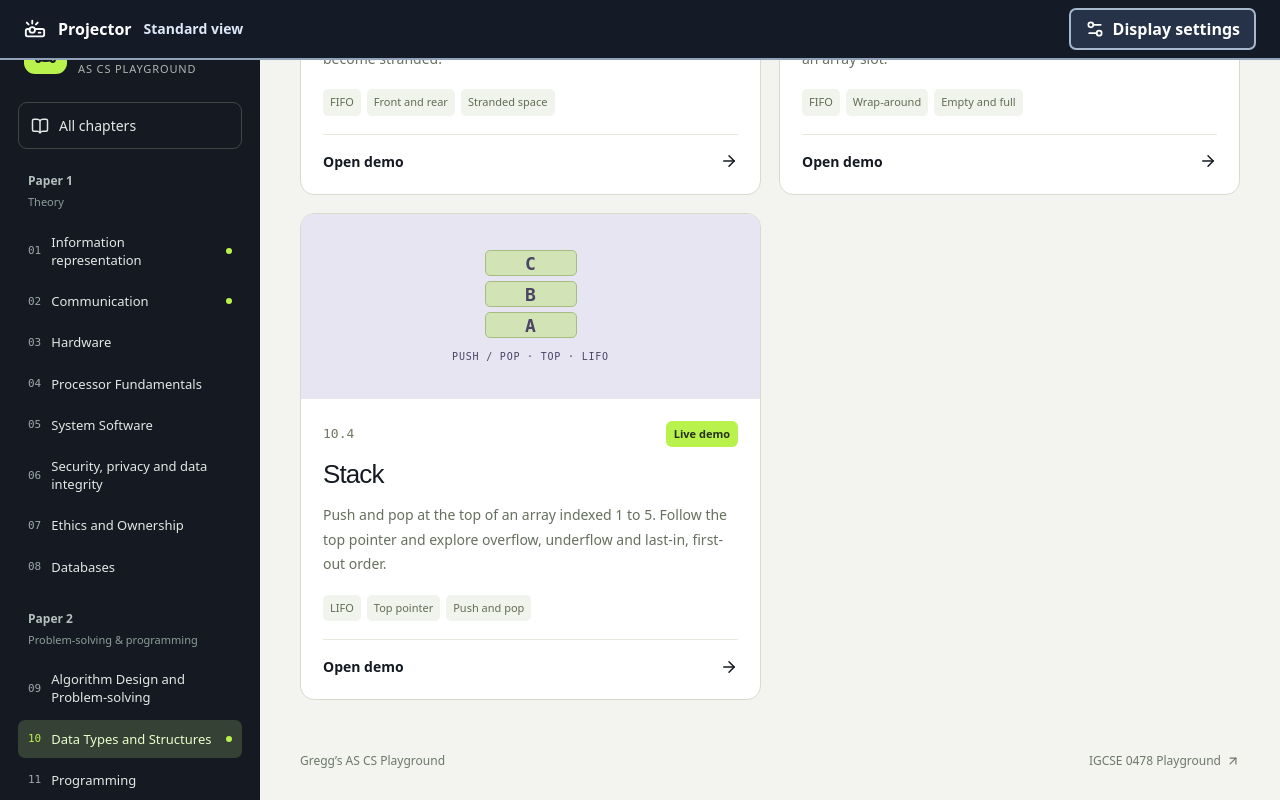
Test: queue and stack teaching pages › launches Stack from section 10.4 with 1-based labels
(page scrolled)
Click the link with aria-label "Open Stack" at (530, 456), box [300,212,761,700]
(page scrolled)
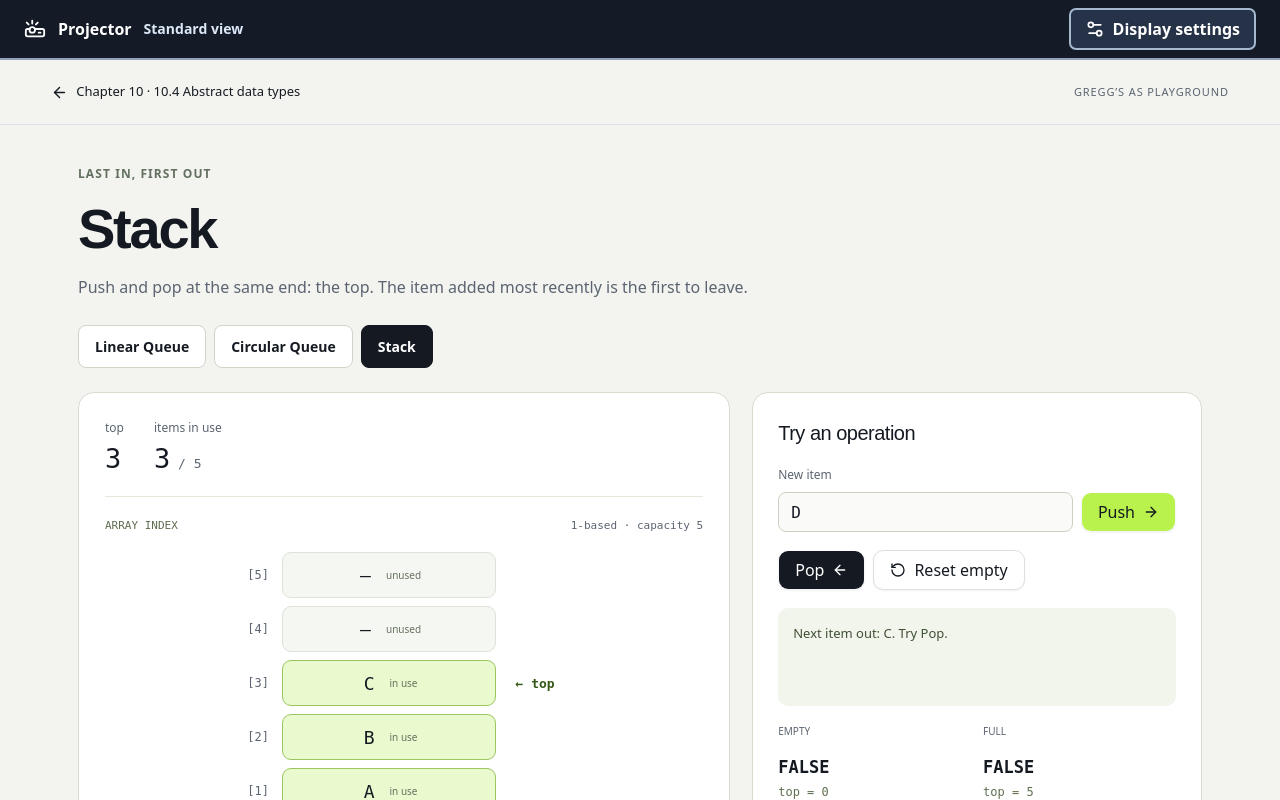
Result: the heading "Stack" is shown at [78,197,216,260]
Result: the text "[1]" is shown at [247,784,269,798]
